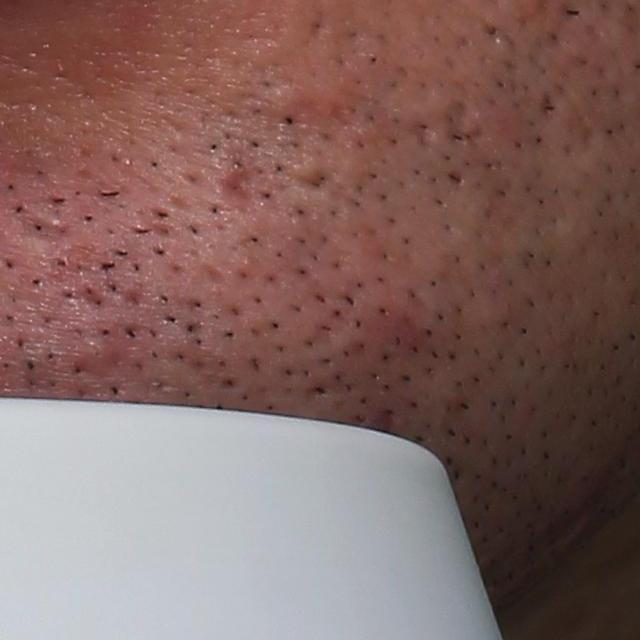atrophic_scar: (440, 90, 488, 158), (217, 151, 255, 207), (283, 163, 341, 196)
